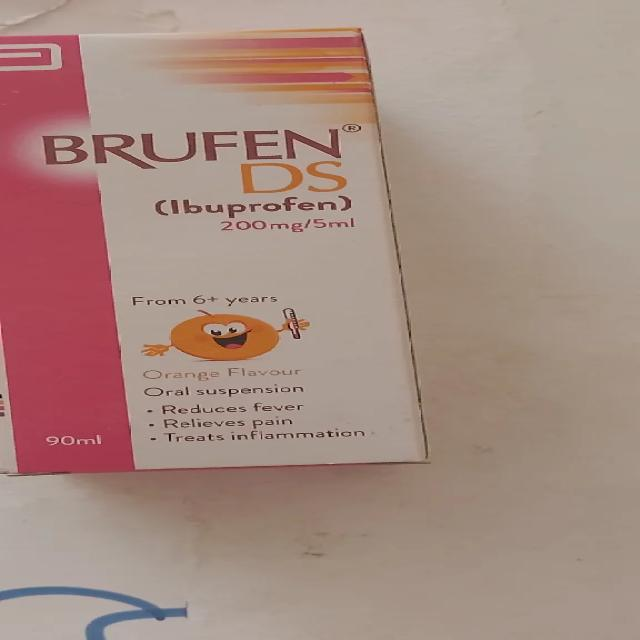drug-name: (37, 128, 356, 198)
